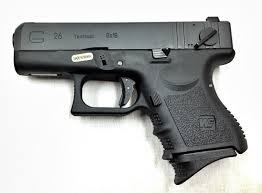gun: (7, 16, 251, 187)
